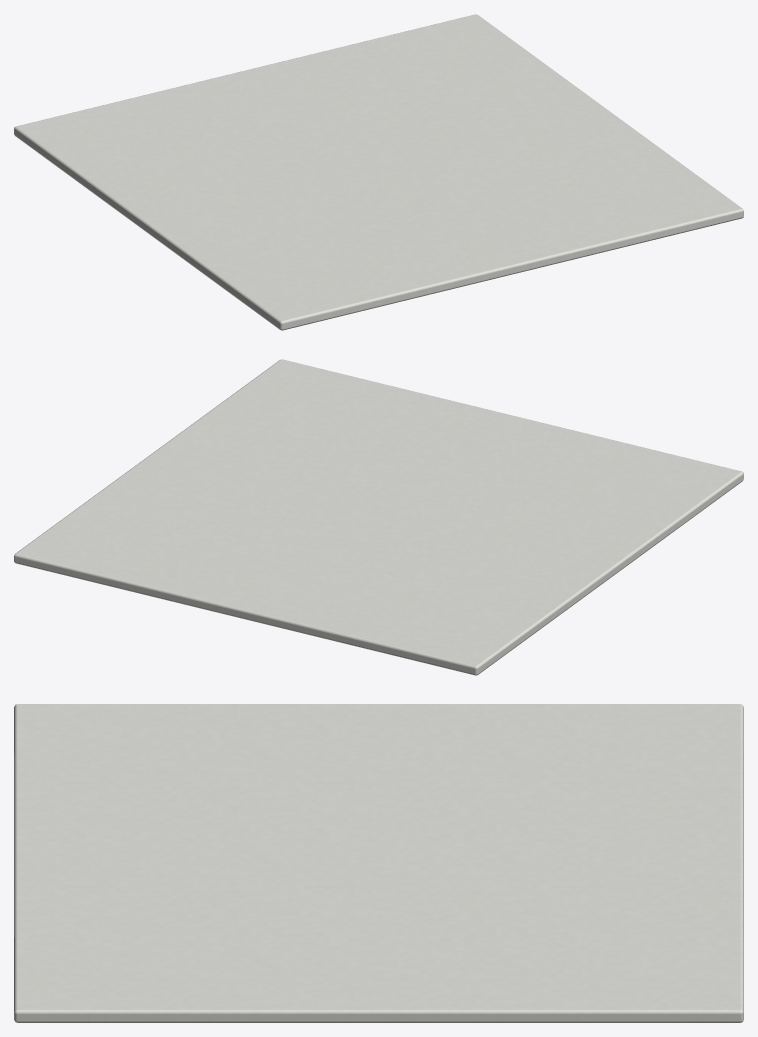
Rendered from LEDPanel.obj.
3 renders of one model, top to bottom at view 1: azimuth 30°, elevation 25°; view 2: azimuth 150°, elevation 25°; view 3: azimuth 270°, elevation 25°, orthographic. The views are drawn at different scales.
Parts seen in each view (by area): view 1: Frame; view 2: Frame; view 3: Frame.
Part boxes in pixels (x1,y1,x2,y2): Frame: [14, 14, 743, 330]; Frame: [14, 359, 743, 675]; Frame: [14, 704, 743, 1022].
Size of the model in its own units: 0.595 by 0.0125 by 0.595.
Materials: 2 (1 with a texture image).
